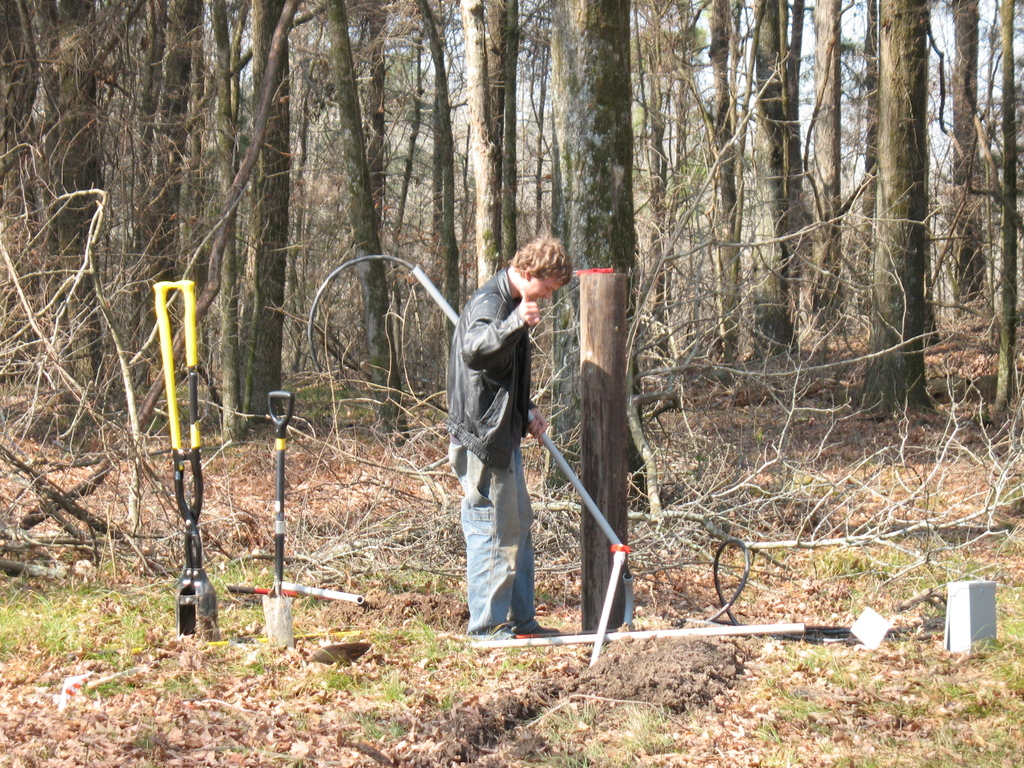Tree: (0, 0, 1023, 616), (546, 0, 650, 485)
